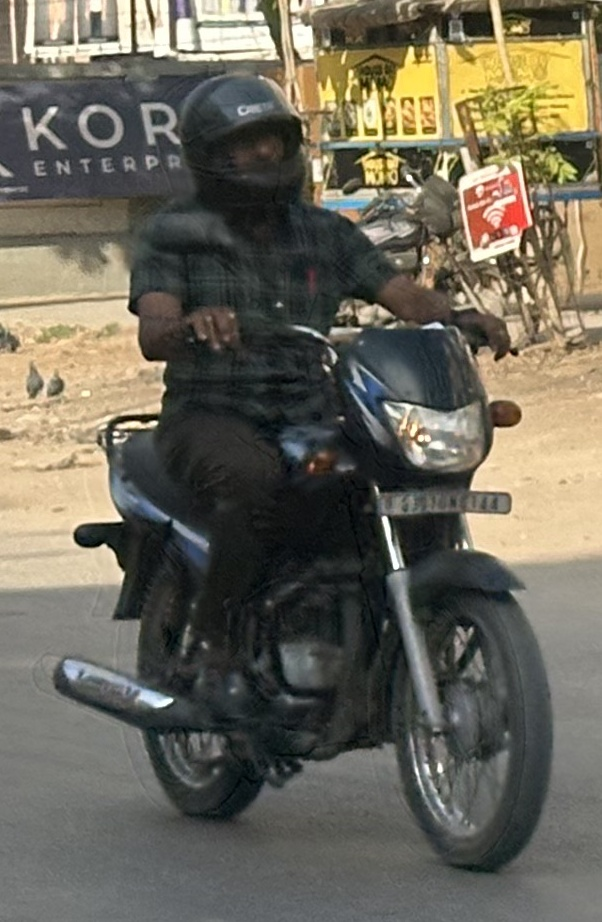BikeWithRider: (36, 64, 570, 880)
NoHelmet: (170, 65, 319, 224)
